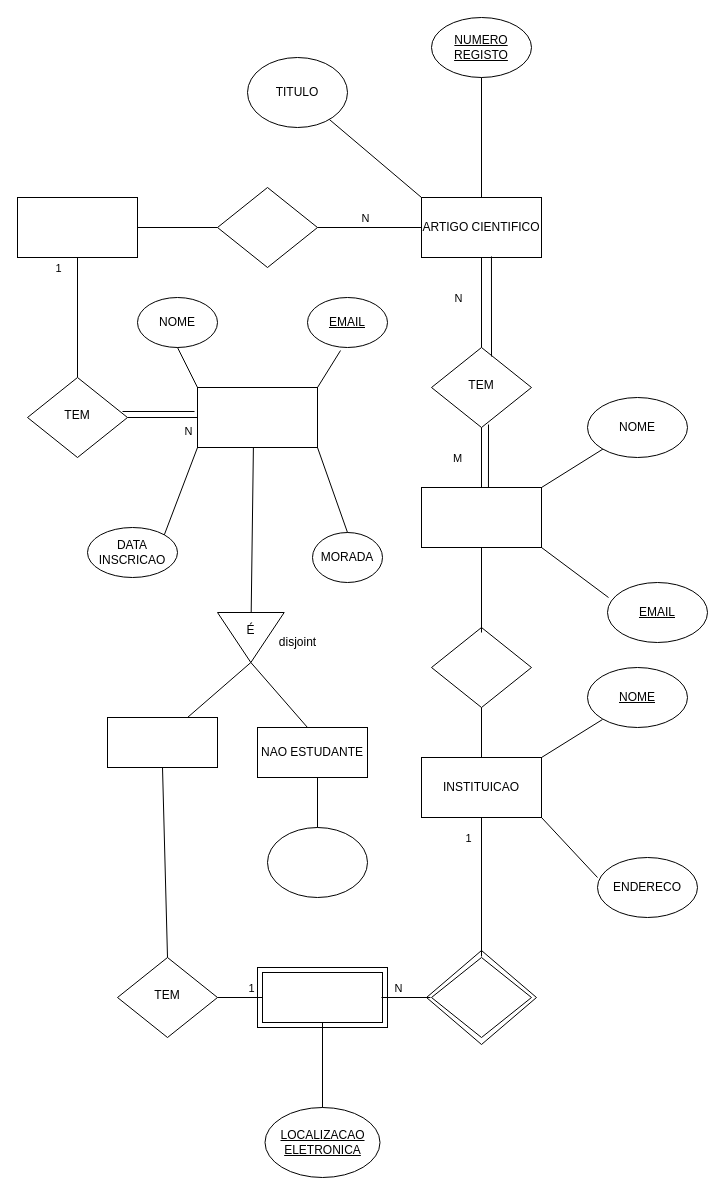
Image size: 725x1195. Some labels were removed from this diagram. Each missing label, with the centre of its shape:
"APRESENTA" belongs at (x=267, y=227).
"AUTOR" belongs at (x=481, y=517).
"COMPROVATIVO" belongs at (x=322, y=997).
"CONFERENCIA" belongs at (x=77, y=227).
"EMITE" belongs at (x=481, y=997).
"ESTUDANTE" belongs at (x=162, y=742).
"PARTICIPANTES" belongs at (x=257, y=417).
"PERTENCE" belongs at (x=481, y=667).
"REFERENCIA TRANSACAO BANCARIA" belongs at (x=317, y=862).
